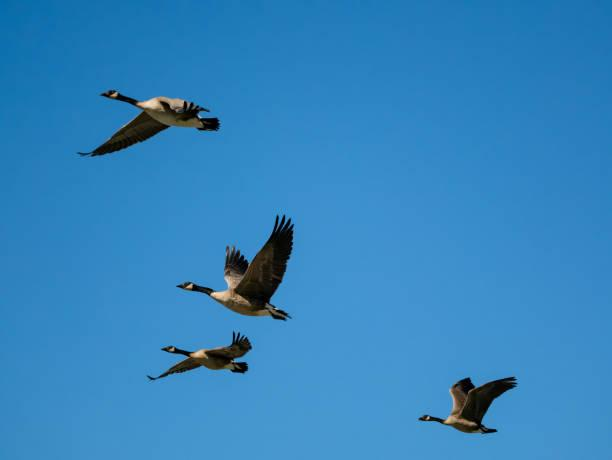Canadian-Goose: (175, 214, 296, 324), (77, 86, 222, 160), (417, 376, 524, 441), (146, 331, 251, 383)
